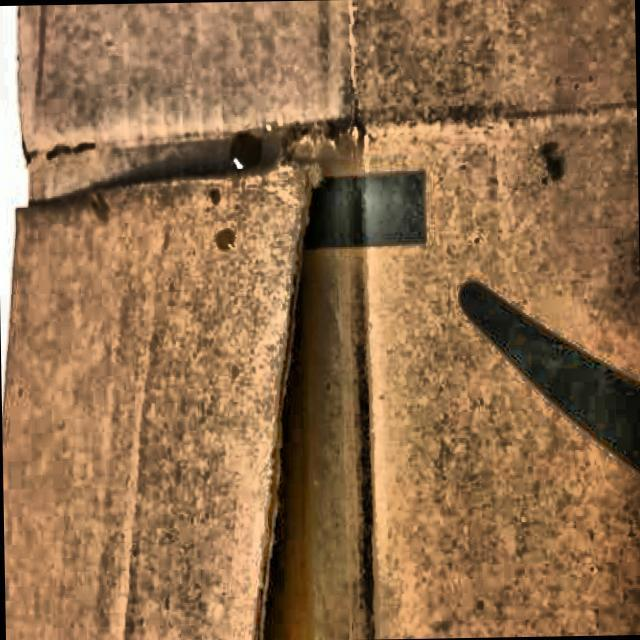cardboard: (0, 0, 640, 640), (0, 160, 324, 640)
